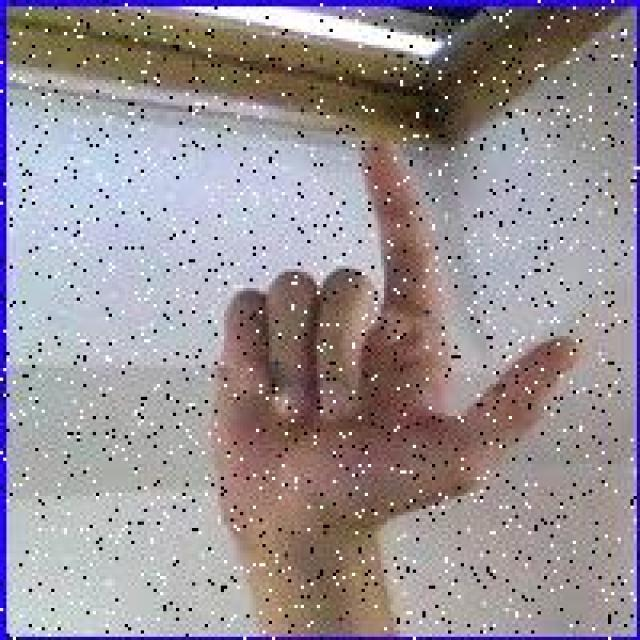L: (210, 136, 584, 539)
